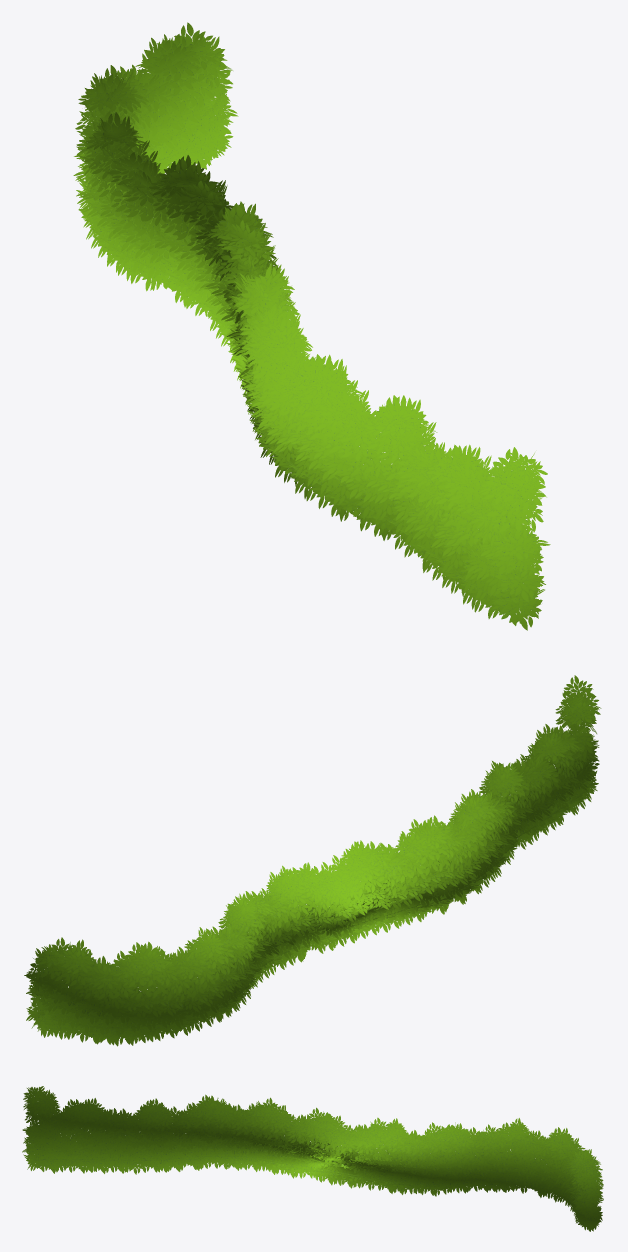
File: Hedge LEft.fbx
The picture shows the model from 3 angles, top to bottom: view 1: azimuth 30°, elevation 25°; view 2: azimuth 150°, elevation 25°; view 3: azimuth 270°, elevation 25°; orthographic projection. The views are drawn at different scales.
Parts seen in each view (by area): view 1: Hedge Left; view 2: Hedge Left; view 3: Hedge Left.
Boxes of the visible parts, left/top/right/bottom form: Hedge Left: left=73, top=22, right=550, bottom=630; Hedge Left: left=24, top=675, right=601, bottom=1046; Hedge Left: left=22, top=1086, right=603, bottom=1231.
Bounding box in the file's own units: 977 × 518 × 3018.
1 material, 1 textured.
